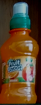orange: (1, 2, 38, 105)
